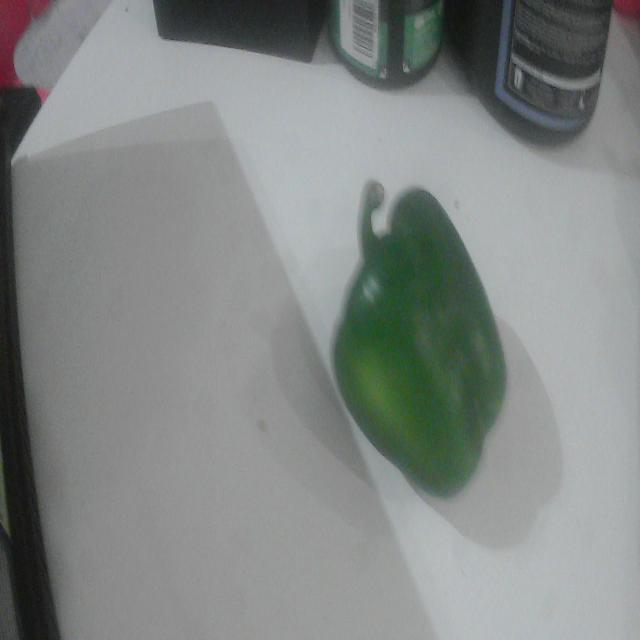Bell Pepper: (333, 188, 506, 497)
